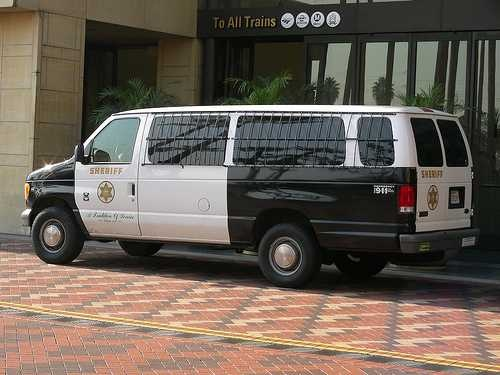Police Van: (18, 91, 490, 264)
